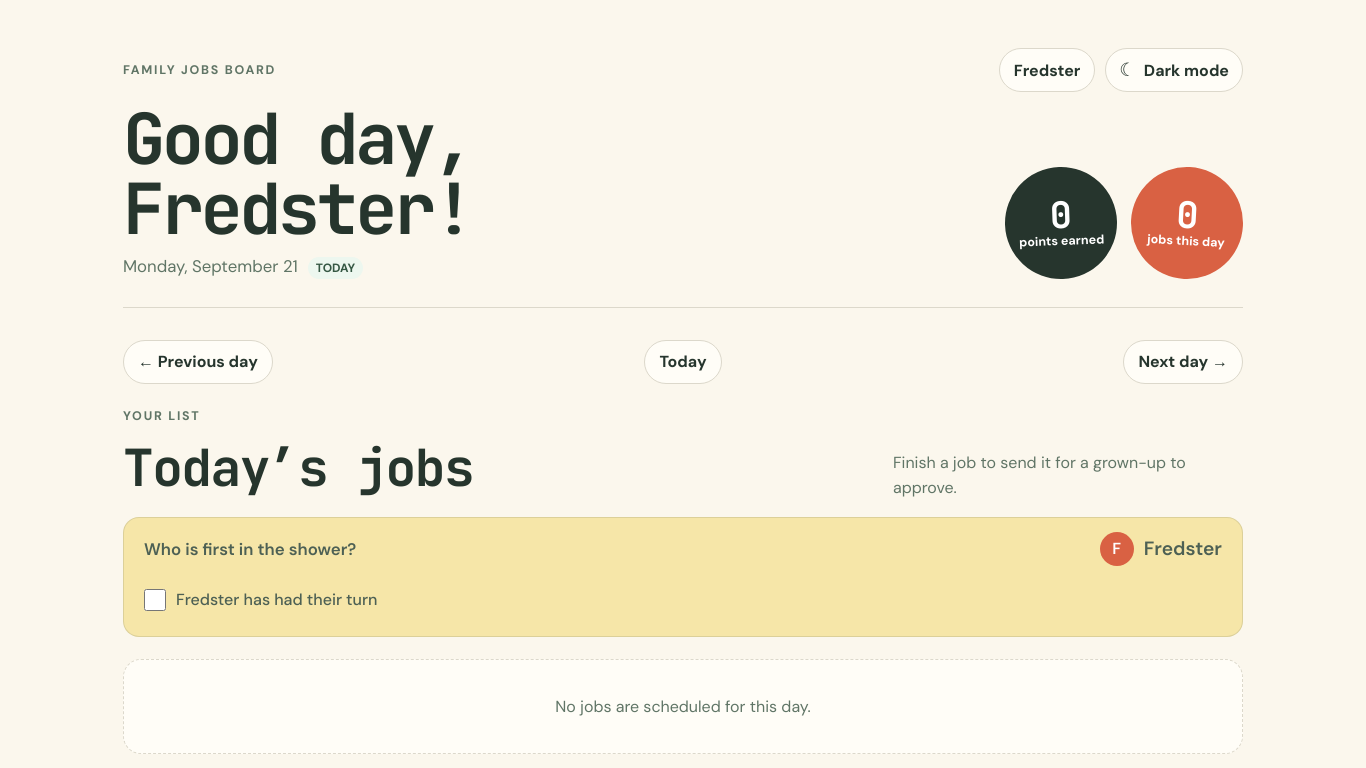
Test: Whose Turn Is It? › puts a queued tick back without sending it when Undo is pressed
Click the checkbox labelled "Fredster has had their turn" at coordinates (155, 600), box top-left (144, 589), bottom-right (166, 611)
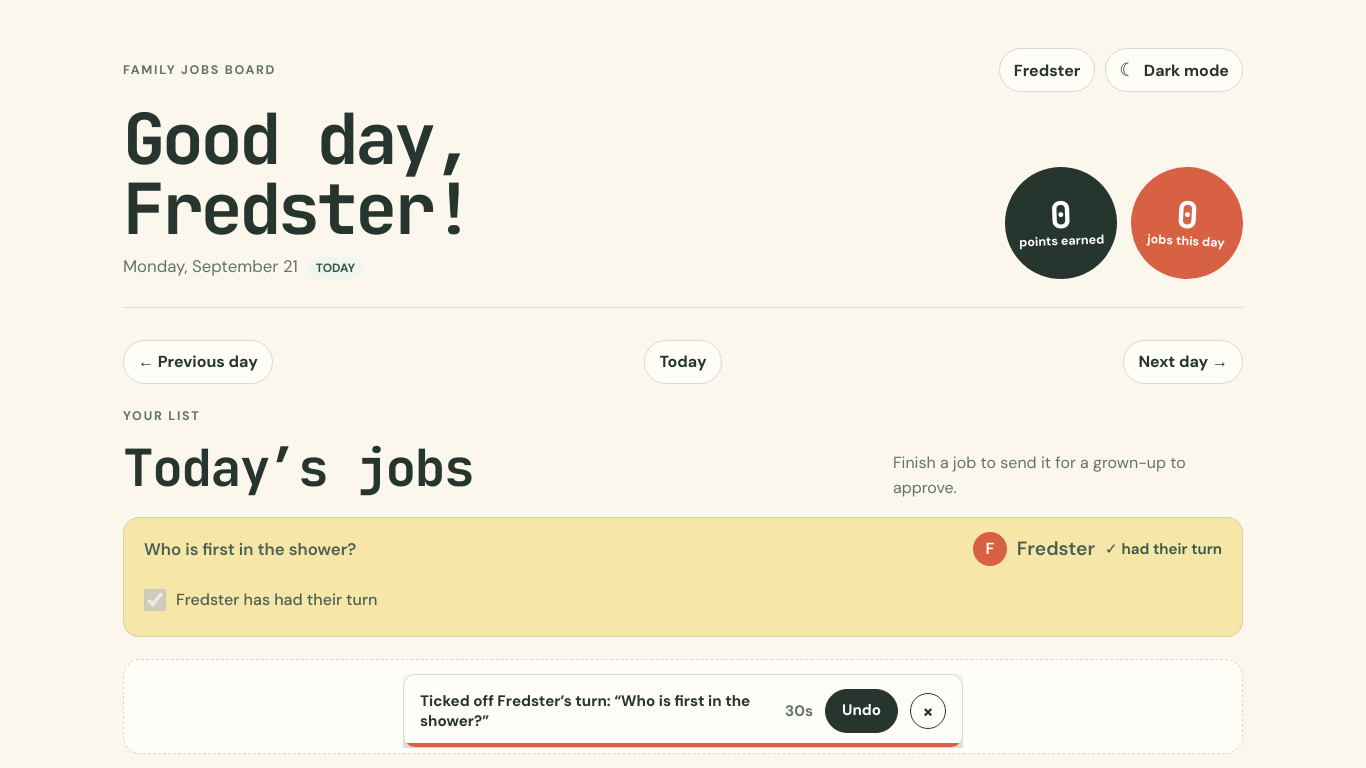
Expected: the checkbox labelled "Fredster has had their turn" is checked, top-left (144, 589), bottom-right (166, 611)
Expected: the checkbox labelled "Fredster has had their turn" is disabled, top-left (144, 589), bottom-right (166, 611)
Click the button "Undo" at coordinates (862, 711), box top-left (825, 689), bottom-right (898, 733)
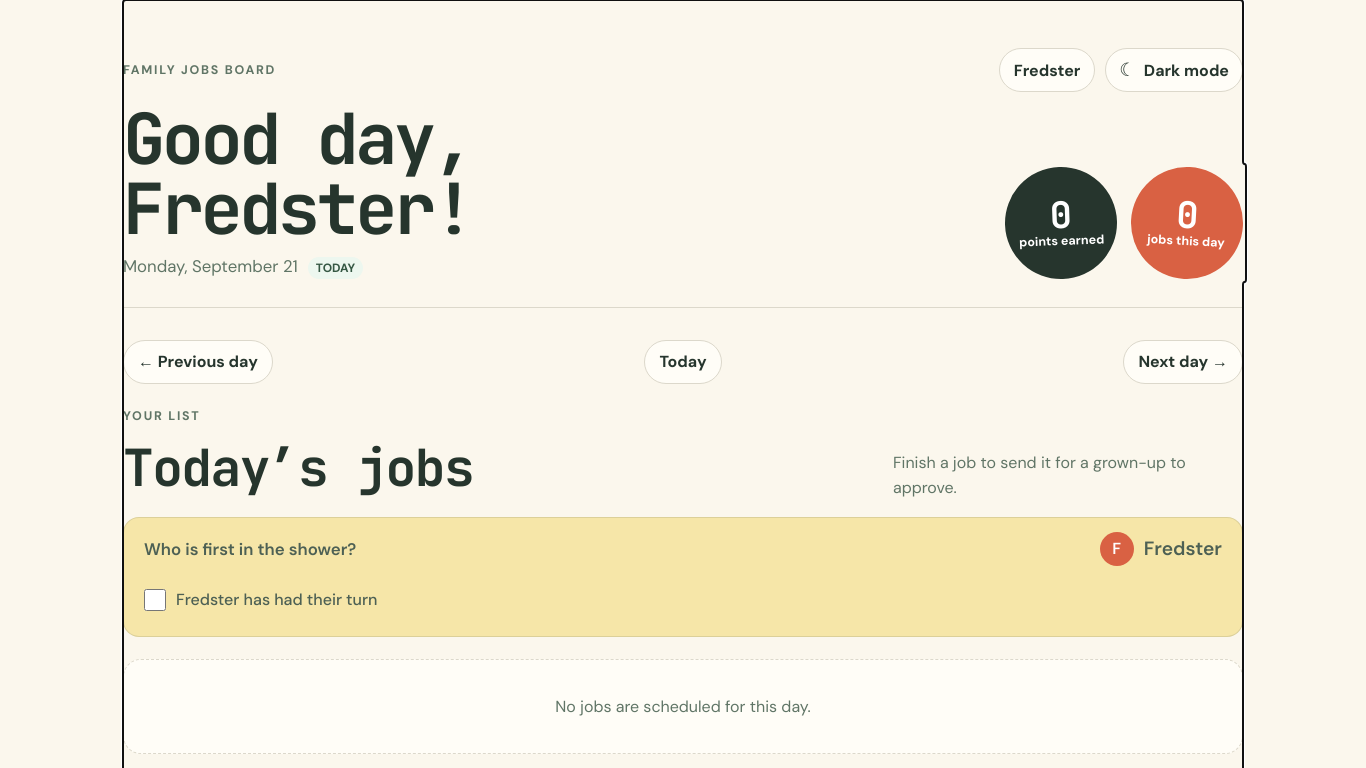
Expected: the checkbox labelled "Fredster has had their turn" is not checked, top-left (144, 589), bottom-right (166, 611)
Expected: the checkbox labelled "Fredster has had their turn" is enabled, top-left (144, 589), bottom-right (166, 611)
